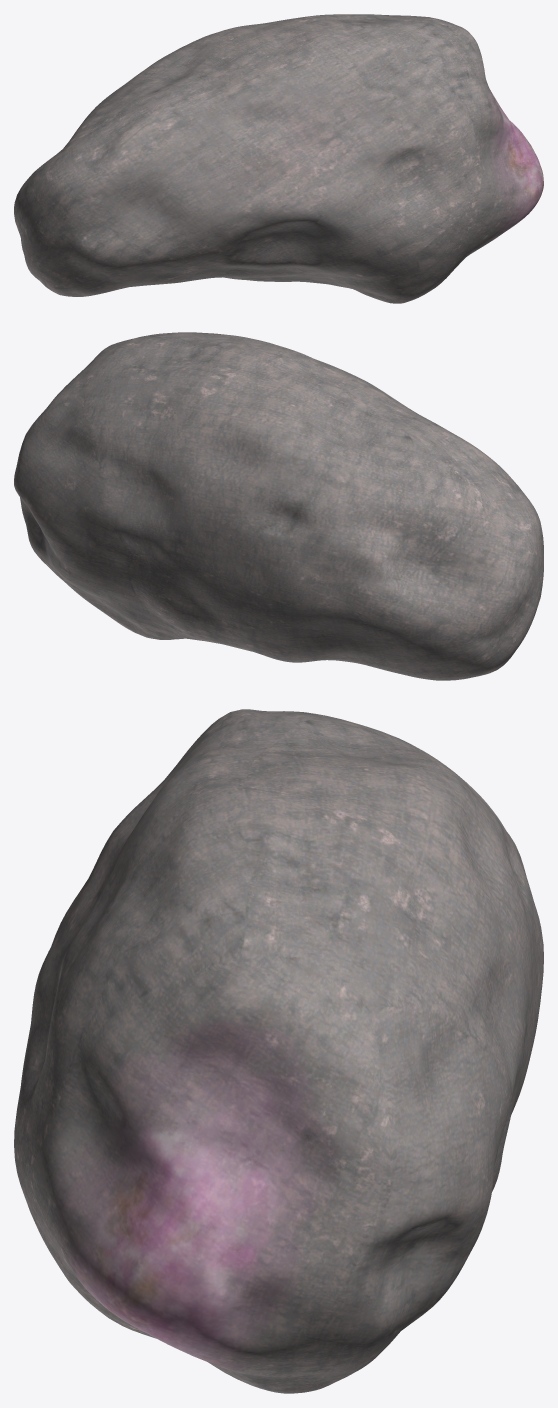
File: Nix.fbx
The picture shows the model from 3 angles, top to bottom: view 1: azimuth 30°, elevation 25°; view 2: azimuth 150°, elevation 25°; view 3: azimuth 270°, elevation 25°; orthographic projection. The views are drawn at different scales.
Parts seen in each view (by area): view 1: Nix; view 2: Nix; view 3: Nix.
Boxes of the visible parts, <box> form: Nix: <box>14,14,543,303</box>; Nix: <box>14,332,543,680</box>; Nix: <box>14,709,543,1393</box>.
Size of the model in its own units: 20.23 by 10.88 by 10.5.
1 material, 1 textured.
